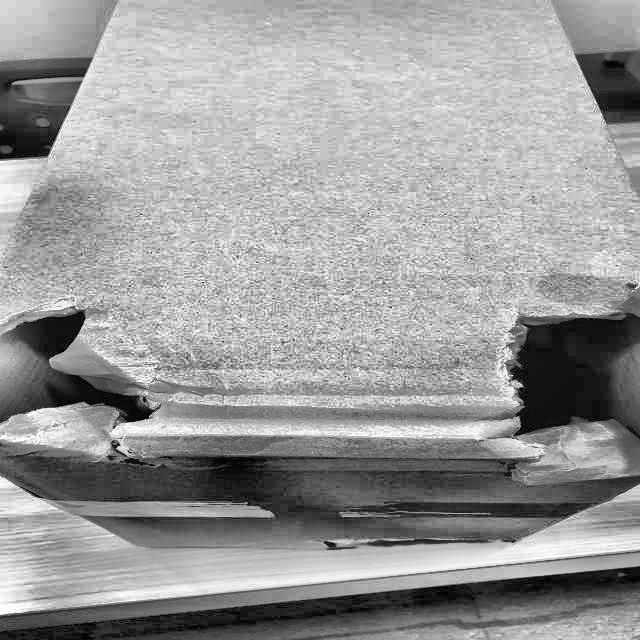box: (0, 0, 639, 565)
hole: (0, 307, 180, 472), (497, 298, 640, 488)
